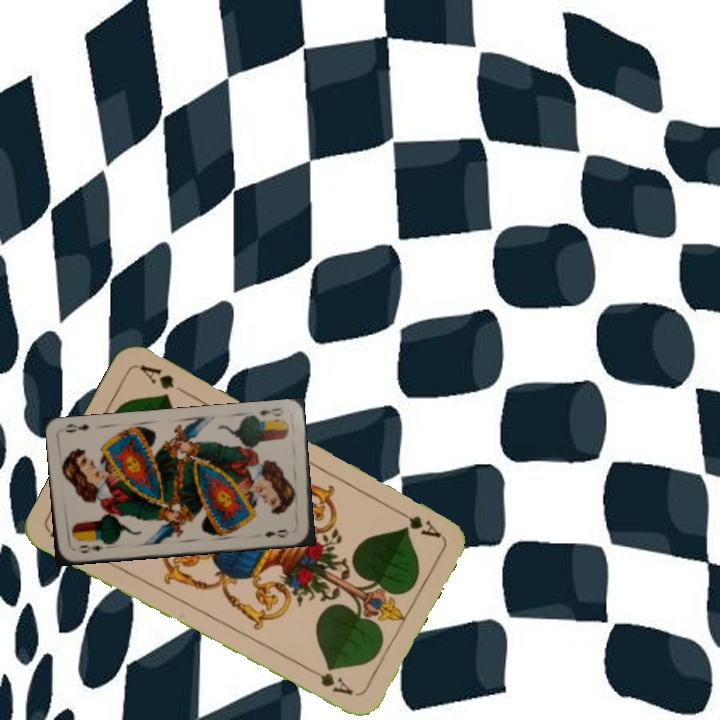EO: (75, 541, 106, 556), (255, 404, 286, 419)
GA: (389, 503, 443, 541)
